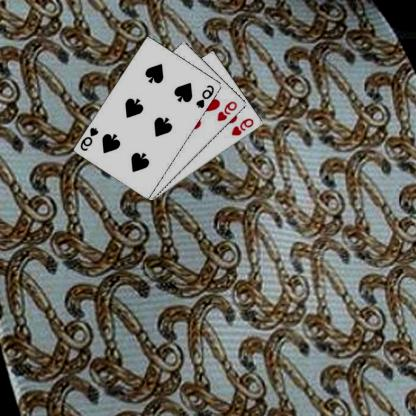6S: (195, 82, 217, 109), (80, 125, 102, 152)
9H: (231, 115, 257, 137), (217, 99, 240, 122)
